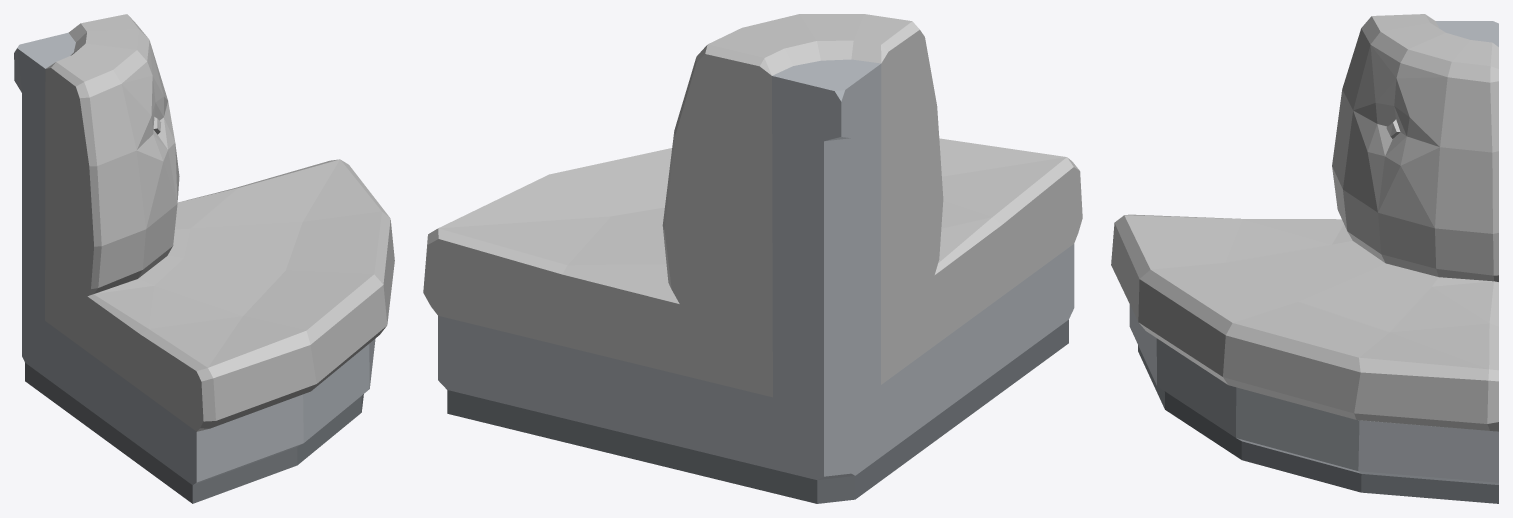
Rendered from SM_Prop_Sofa_03_Corner_07.fbx.
3 views of the same model, side by side, from view 1: azimuth 30°, elevation 25°; view 2: azimuth 150°, elevation 25°; view 3: azimuth 270°, elevation 25° (orthographic). The views are drawn at different scales.
Parts seen in each view (by area): view 1: SM_Prop_Sofa_03_Corner_07; view 2: SM_Prop_Sofa_03_Corner_07; view 3: SM_Prop_Sofa_03_Corner_07.
Boxes of the visible parts, <box> form: SM_Prop_Sofa_03_Corner_07: <box>14,14,394,503</box>; SM_Prop_Sofa_03_Corner_07: <box>423,14,1082,503</box>; SM_Prop_Sofa_03_Corner_07: <box>1111,14,1498,503</box>.
Size of the model in its own units: 114 by 110 by 114.
